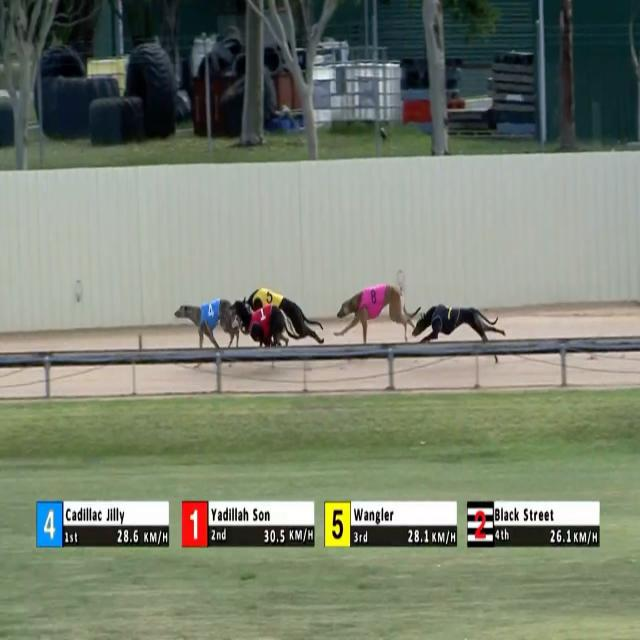dog_eight: (361, 282, 387, 320)
dog_five: (254, 285, 282, 312)
dog_four: (199, 297, 221, 330)
dog_one: (250, 306, 273, 339)
dog_seven: (433, 297, 462, 335)
rail: (0, 336, 640, 367)
